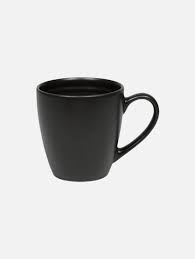mug: (27, 71, 164, 183)
